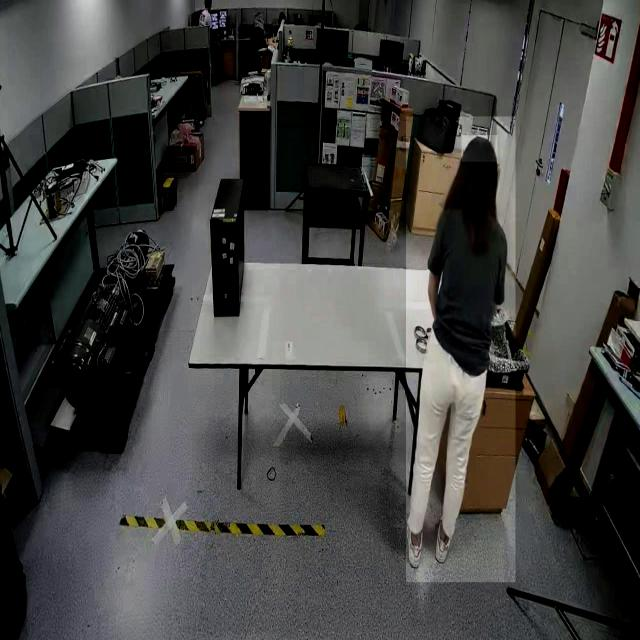head_nohelmet: (461, 135, 497, 163)
person: (406, 117, 516, 583)
shoes: (433, 514, 457, 565), (406, 511, 426, 569)
